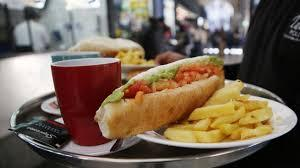Completos: (97, 55, 232, 143)
